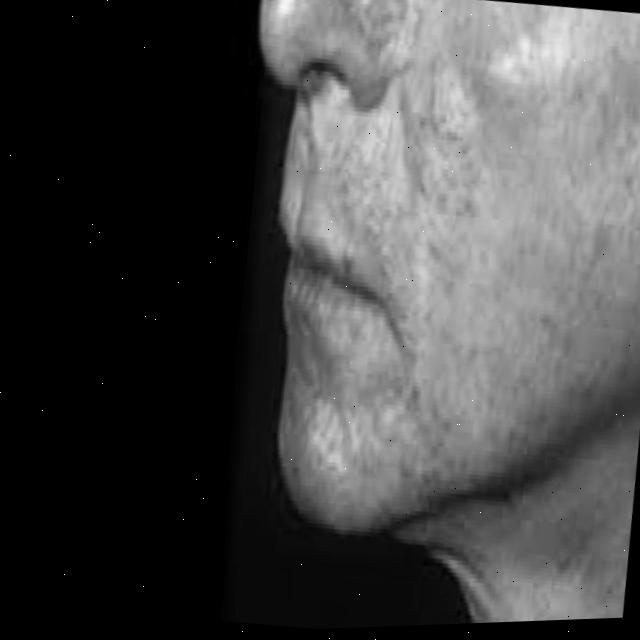Rosacea: (267, 0, 640, 546), (257, 0, 403, 97)
